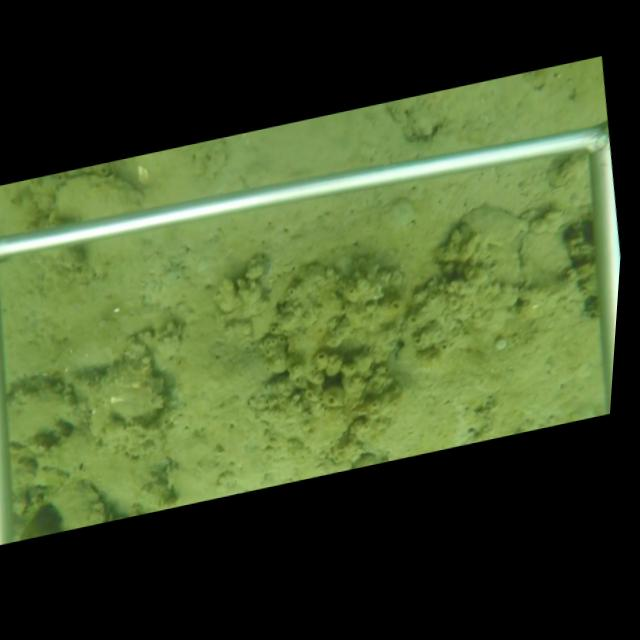Oyster-Indeterminate: (434, 203, 536, 292), (56, 174, 149, 221)
